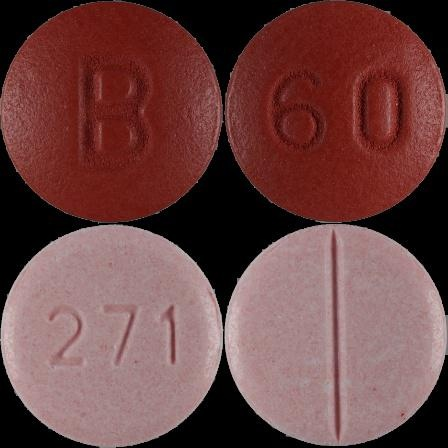53808-0851: (0, 0, 224, 224)
